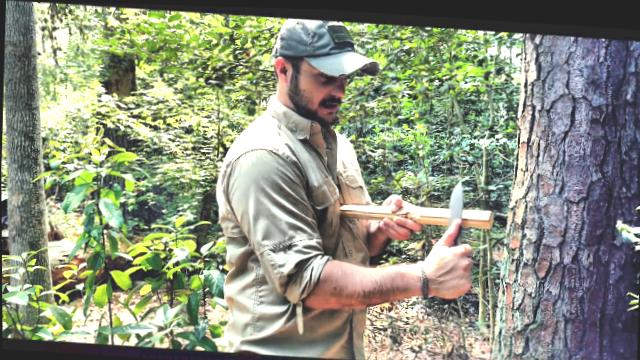knife: (429, 170, 480, 288)
